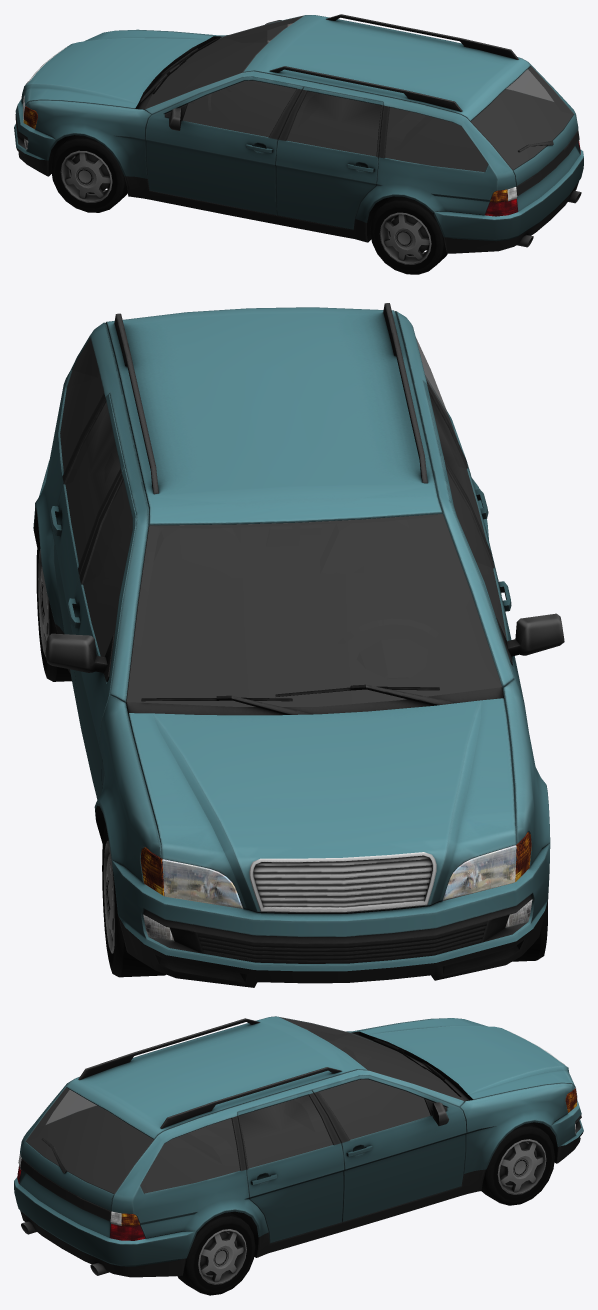
The model's file is uploads_files_4332727_Van.fbx.
The picture shows the model from 3 angles, top to bottom: view 1: azimuth 30°, elevation 25°; view 2: azimuth 150°, elevation 25°; view 3: azimuth 270°, elevation 25°; orthographic projection. The views are drawn at different scales.
Visible parts, largest first — view 1: pasted__Wagon Body, pasted__Wheel_A001, pasted__Wheel_A; view 2: pasted__Wagon Body, pasted__Wheel_A002, pasted__Wheel_A003; view 3: pasted__Wagon Body, pasted__Wheel_A003, pasted__Wheel_A002.
Part boxes in pixels (x1,y1,x2,y2): pasted__Wagon Body: (14, 14, 583, 253); pasted__Wheel_A001: (370, 196, 447, 274); pasted__Wheel_A: (51, 135, 127, 212); pasted__Wagon Body: (33, 303, 564, 987); pasted__Wheel_A002: (102, 824, 165, 977); pasted__Wheel_A003: (36, 534, 71, 681); pasted__Wagon Body: (14, 1016, 583, 1277); pasted__Wheel_A003: (177, 1212, 255, 1295); pasted__Wheel_A002: (481, 1123, 554, 1205).
Size of the model in its own units: 386 by 155 by 460.
Materials: 4 (3 with a texture image).
